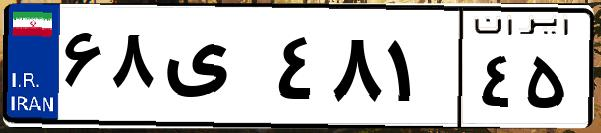1: (385, 28, 445, 110)
4: (270, 28, 330, 110), (475, 38, 525, 113)
5: (525, 38, 570, 115)
6: (57, 26, 110, 100)
8: (330, 28, 385, 110), (110, 28, 158, 98)
ی: (158, 20, 270, 120)
